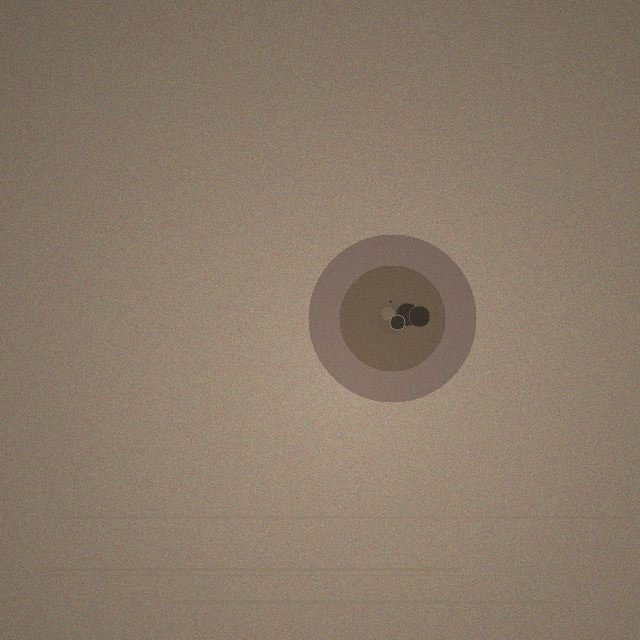shrinkage: (308, 234, 476, 402)
